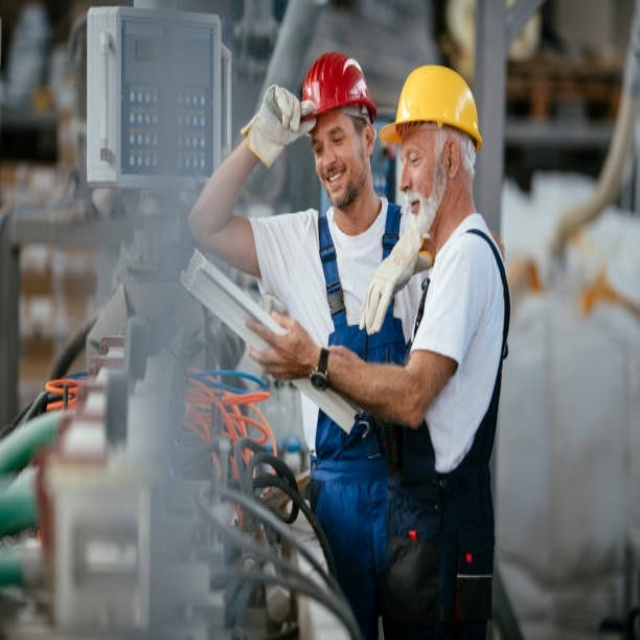Guantes: (359, 213, 429, 336), (240, 83, 313, 171)
Sin_gafas: (313, 121, 348, 158), (399, 146, 436, 176)
Sin_guantes: (243, 308, 319, 381)
Sin_mascara: (319, 165, 348, 205), (404, 187, 431, 226)
